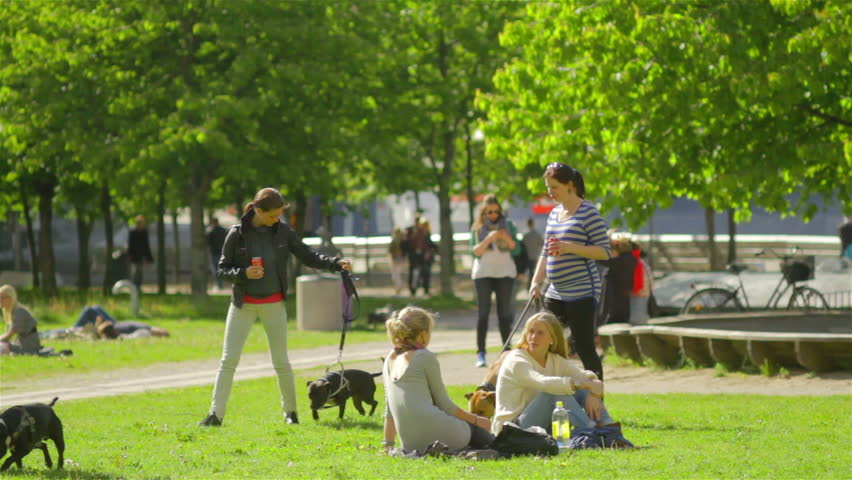person: (194, 183, 358, 435), (376, 306, 556, 457), (531, 150, 614, 445), (494, 312, 640, 458), (465, 190, 528, 364)
